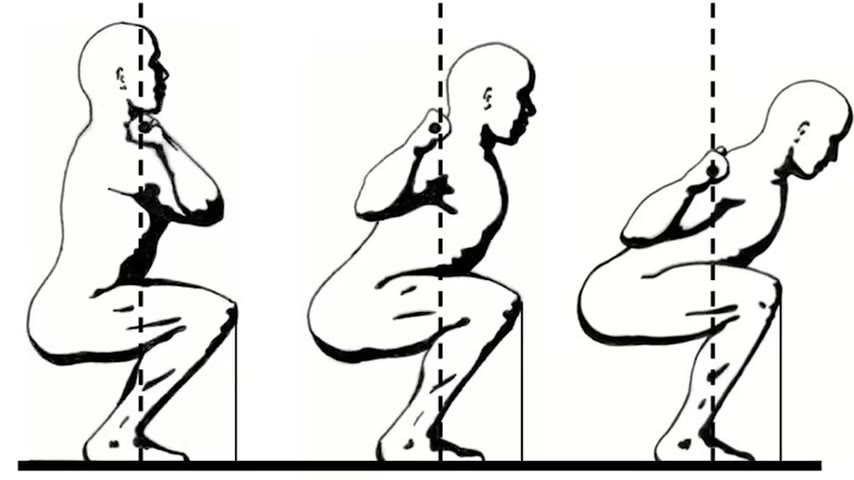barbell_plate_side: (494, 38, 538, 160)
